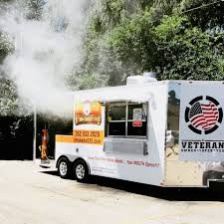smoke: (1, 1, 93, 122)
